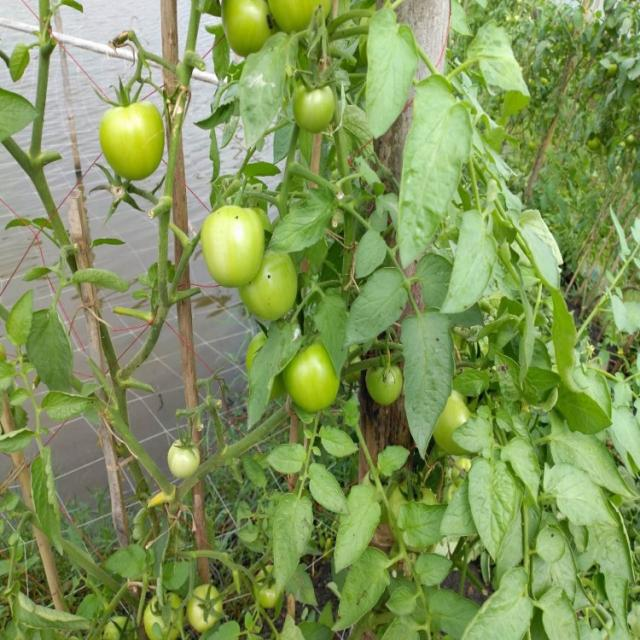tomato: (201, 200, 297, 323), (96, 91, 169, 184), (223, 3, 324, 56), (285, 344, 343, 416), (435, 391, 480, 462), (389, 476, 445, 530), (295, 81, 342, 137), (190, 577, 225, 635), (365, 362, 404, 413), (146, 589, 185, 640), (256, 561, 286, 609), (168, 437, 200, 479), (106, 614, 135, 640), (603, 60, 629, 82), (623, 129, 638, 151), (589, 133, 602, 150)
